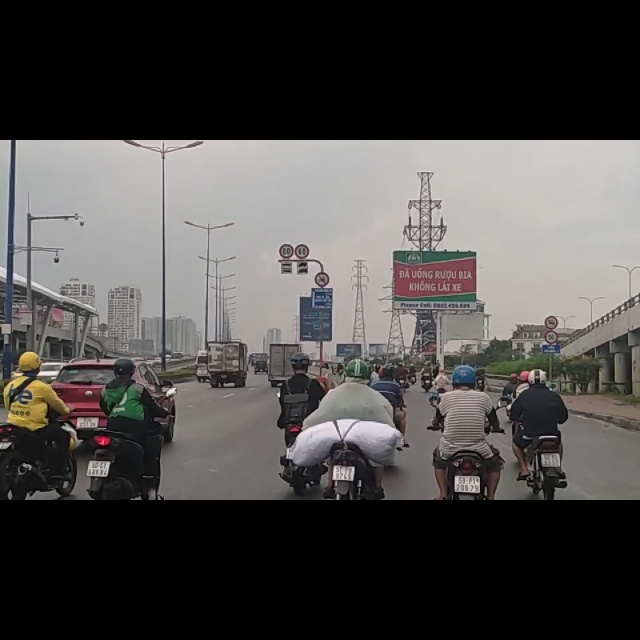bien_cam: (313, 232, 331, 262), (295, 185, 309, 211), (544, 338, 558, 364), (279, 184, 293, 209), (545, 313, 559, 337)
